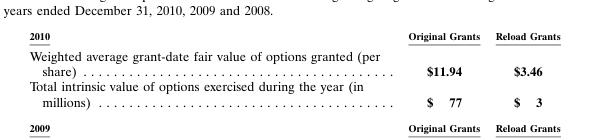table: (28, 29, 559, 108)
table column: (28, 29, 393, 108), (393, 29, 487, 108), (487, 29, 559, 108)
table column header: (28, 29, 559, 44)
table row: (28, 44, 559, 78), (28, 78, 559, 108), (28, 29, 559, 44)
